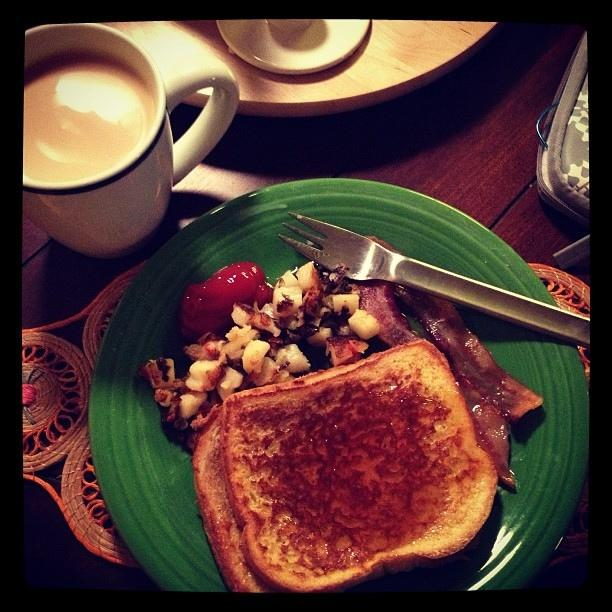potato: (326, 335, 370, 366), (241, 339, 270, 382), (185, 359, 221, 392), (272, 286, 306, 317), (142, 357, 176, 388), (276, 344, 312, 373), (348, 308, 380, 340), (176, 390, 210, 420), (296, 260, 325, 294), (219, 338, 244, 366), (306, 326, 335, 350), (254, 357, 277, 387), (230, 302, 254, 327), (333, 294, 359, 315), (202, 339, 225, 361), (260, 302, 280, 326), (225, 353, 246, 373), (226, 366, 244, 389), (166, 400, 180, 425), (184, 344, 205, 360), (287, 329, 306, 342), (321, 294, 334, 310), (220, 380, 232, 390), (211, 391, 218, 404)
